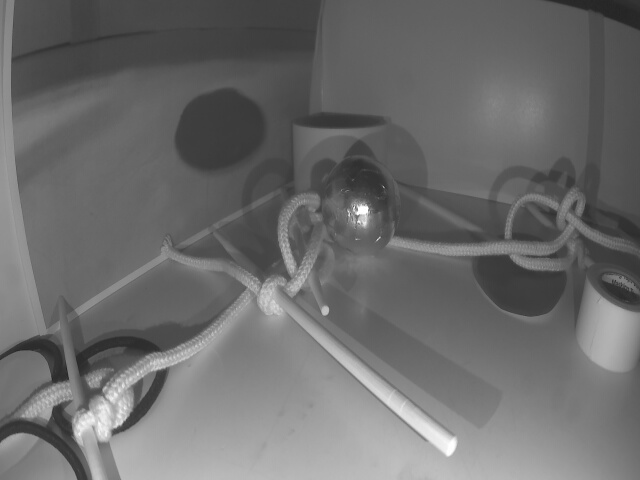Live: (319, 158, 401, 258)
